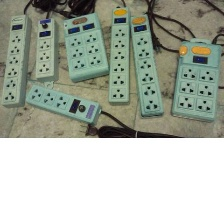three_eye_plug: (165, 36, 223, 124), (125, 11, 166, 119), (59, 9, 112, 84), (22, 81, 104, 129), (0, 9, 33, 109), (104, 4, 133, 106), (32, 16, 61, 83)
